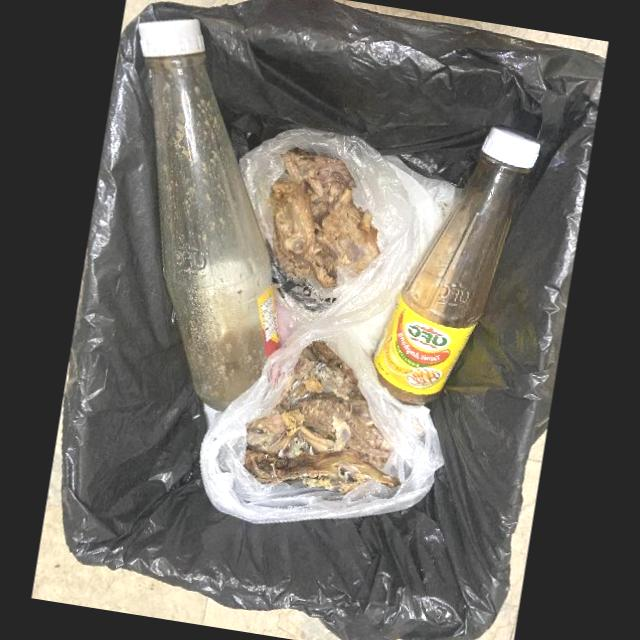chai_thuy_tinh: (138, 17, 279, 411), (373, 125, 541, 400)
thuc_an_thua: (243, 341, 400, 493), (270, 148, 380, 288)
